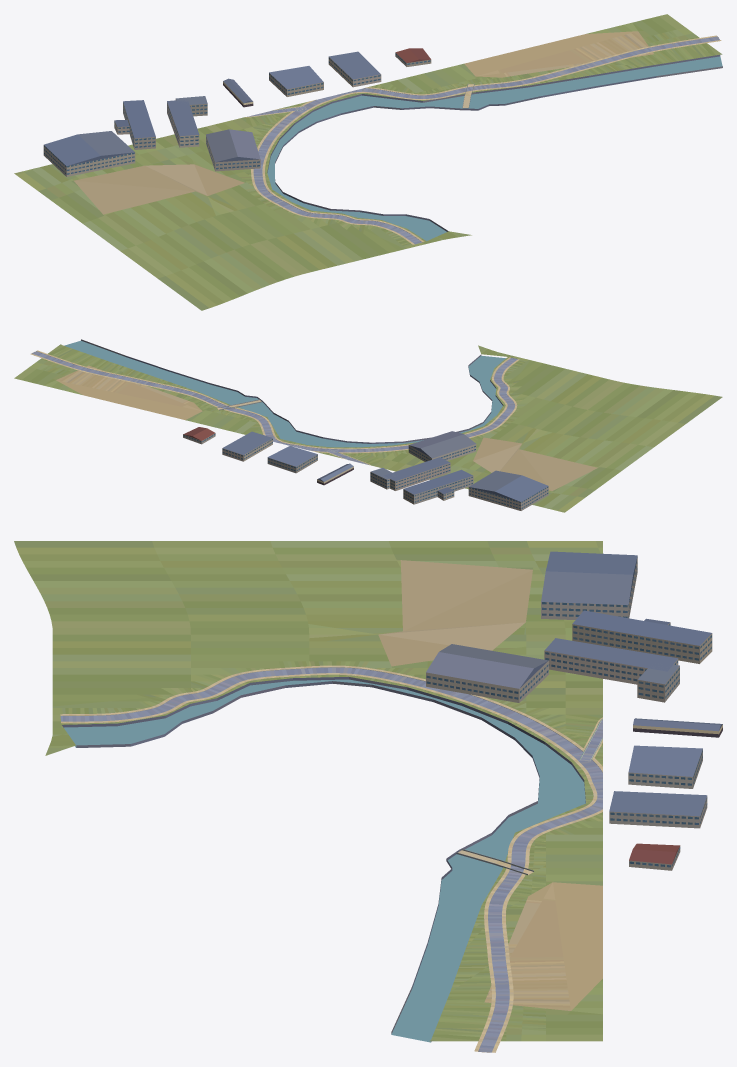
Rendered from ART_CastleApproach.glb.
The picture shows the model from 3 angles, top to bottom: view 1: azimuth 30°, elevation 25°; view 2: azimuth 150°, elevation 25°; view 3: azimuth 270°, elevation 25°; orthographic projection. The views are drawn at different scales.
Visible parts, largest first — view 1: ART_CastleApproach; view 2: ART_CastleApproach; view 3: ART_CastleApproach.
Part boxes in pixels (x1=…): ART_CastleApproach: x1=14, y1=14, x2=722, y2=310; ART_CastleApproach: x1=14, y1=339, x2=722, y2=512; ART_CastleApproach: x1=14, y1=541, x2=722, y2=1052.
Size of the model in its own units: 614 by 14 by 359.
